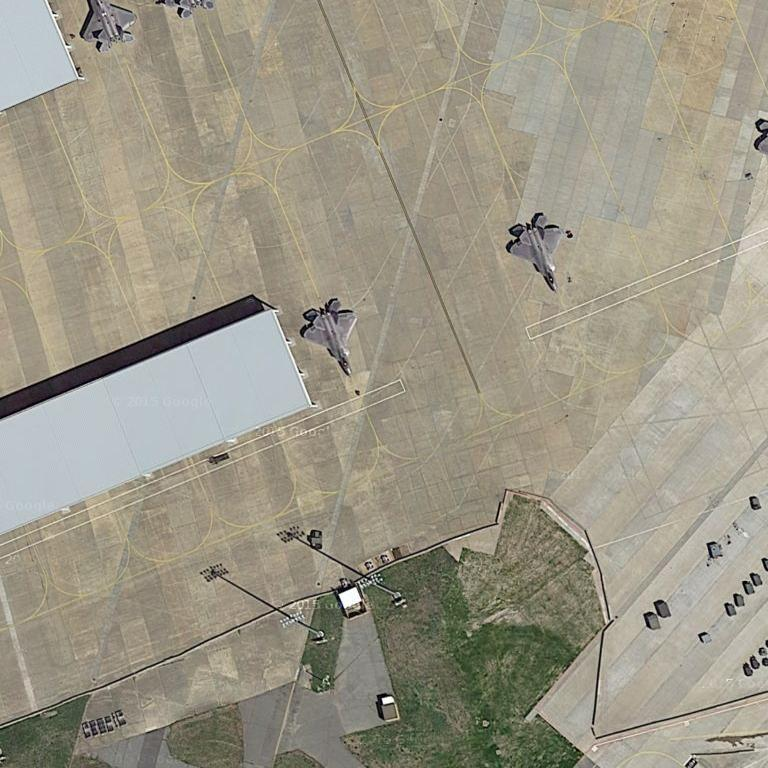F-22: (500, 210, 569, 294), (300, 295, 362, 378), (80, 3, 141, 56)
